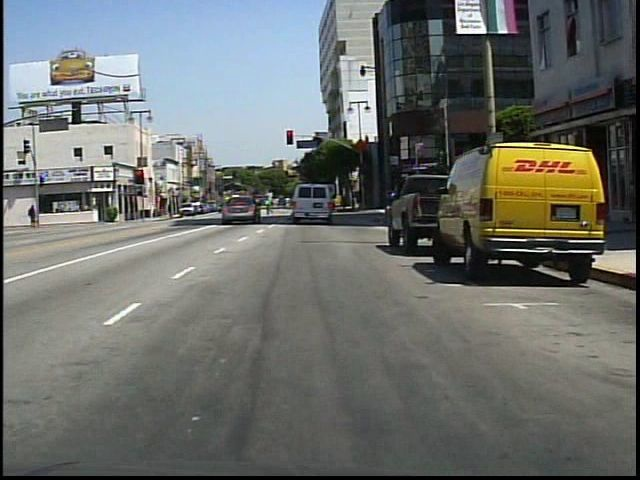person: (286, 191, 304, 223), (262, 193, 277, 219), (27, 203, 38, 227)
